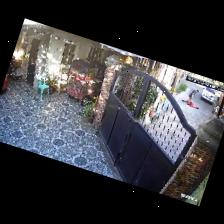person: (187, 90, 197, 104), (182, 100, 197, 108)
